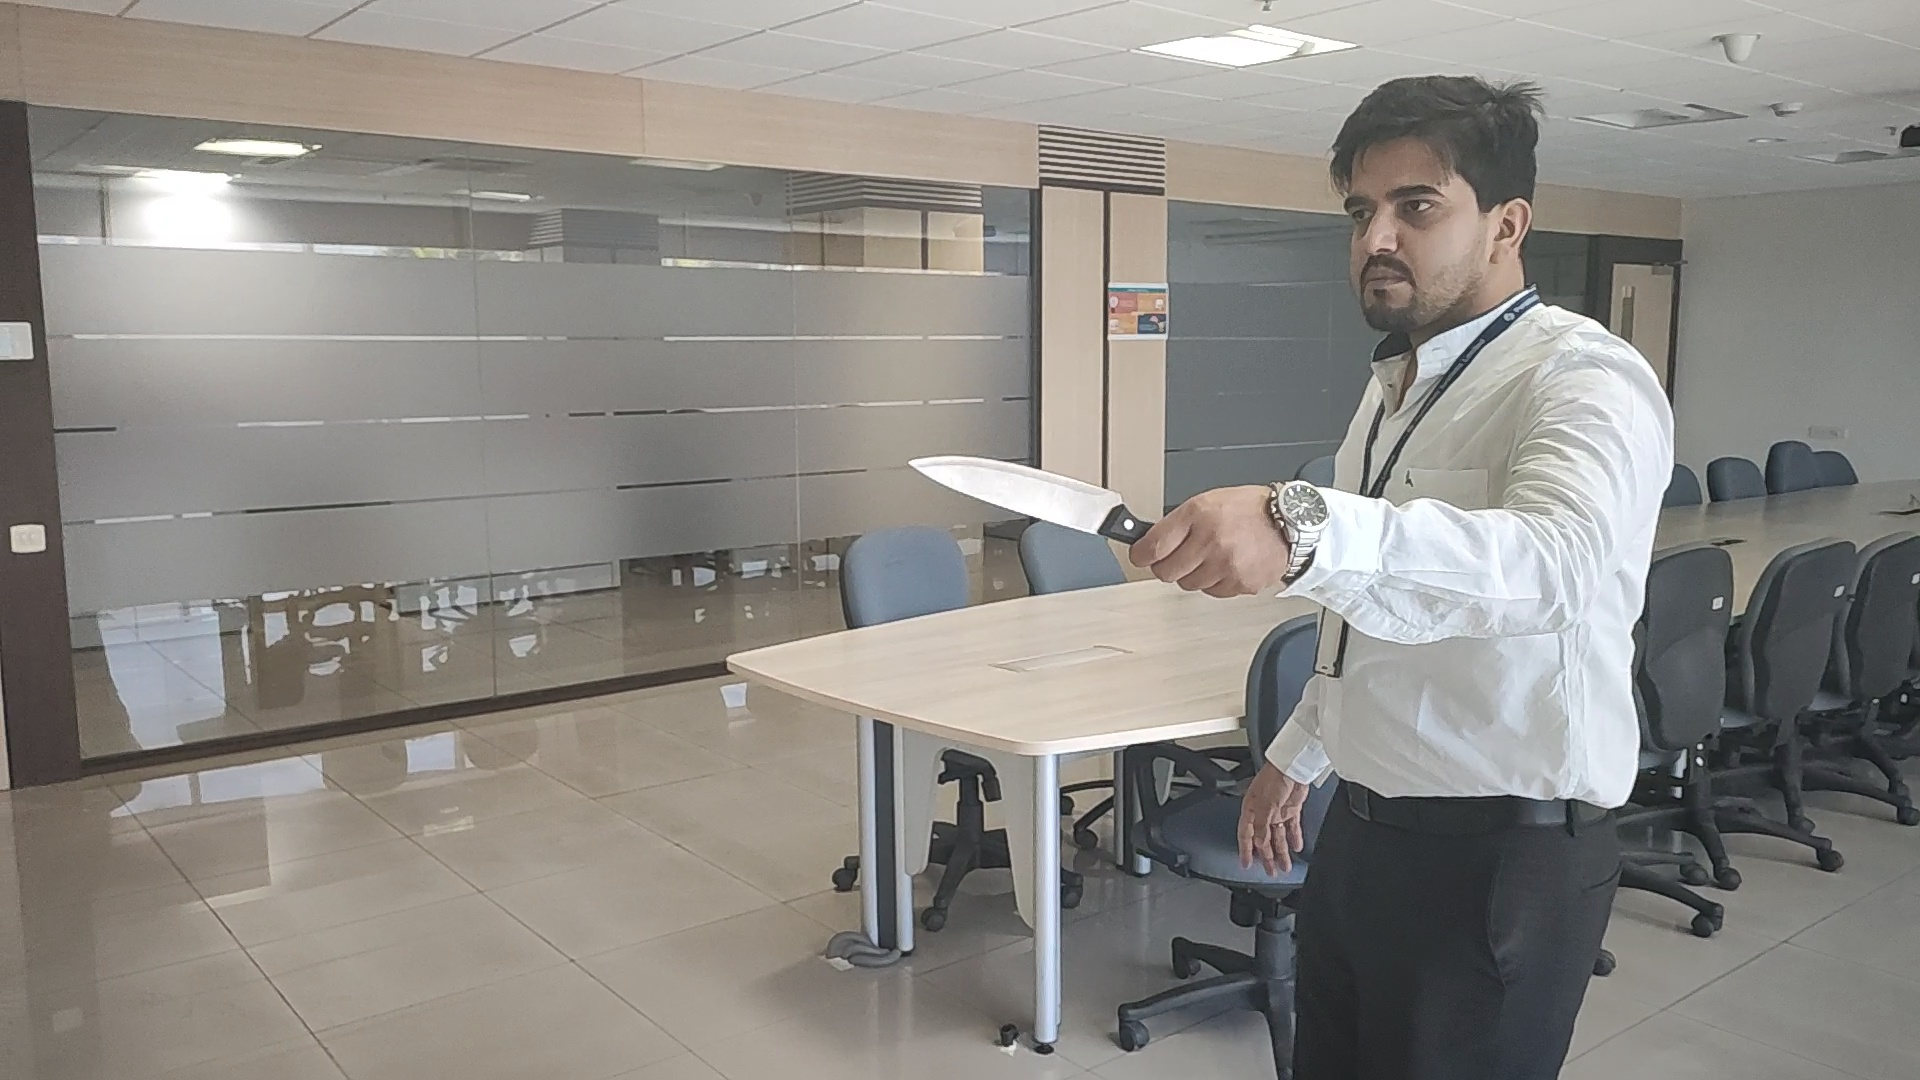knife: (909, 451, 1145, 546)
